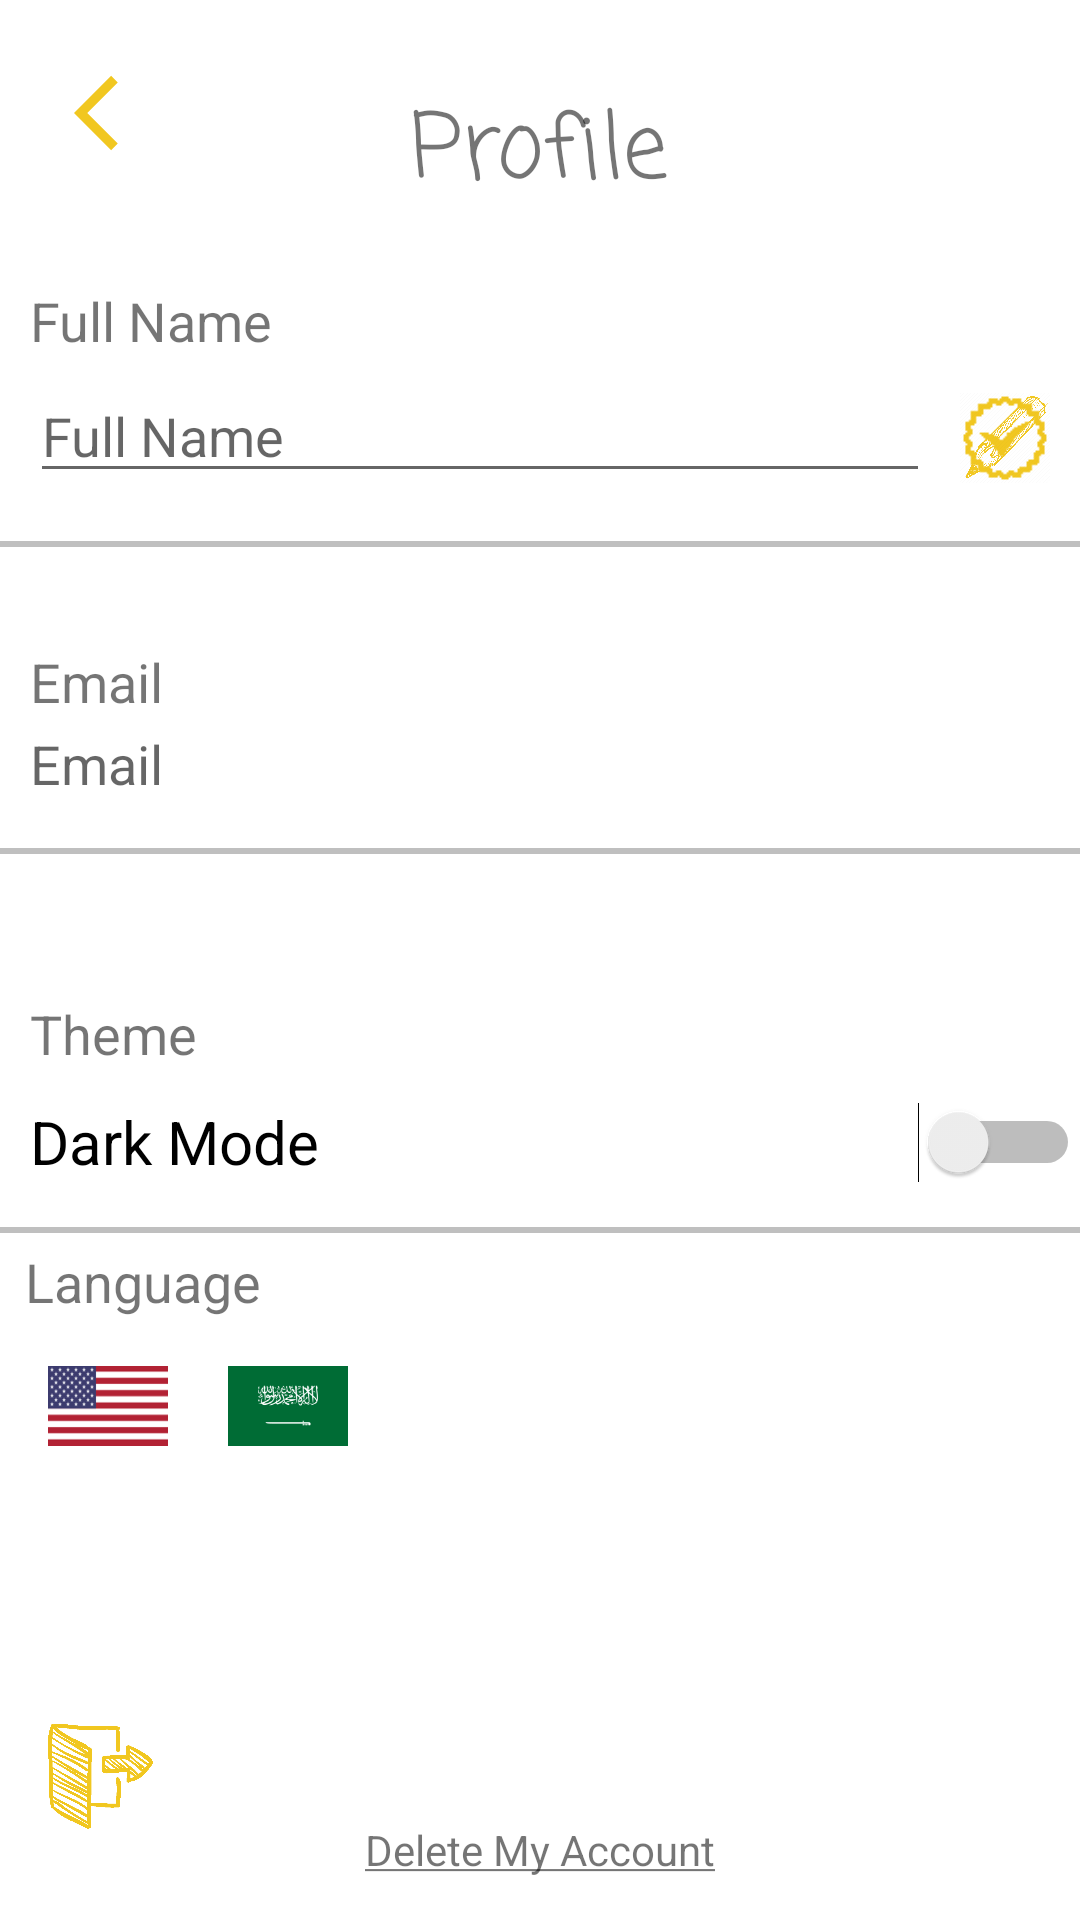

Named icons in this screenshot (1080px x 1920px) and their bounding boxes, (x1, y1, x2, y2):
backbtn: (74, 76, 118, 150)
enflag: (48, 1366, 168, 1446)
saflag: (228, 1366, 348, 1446)
